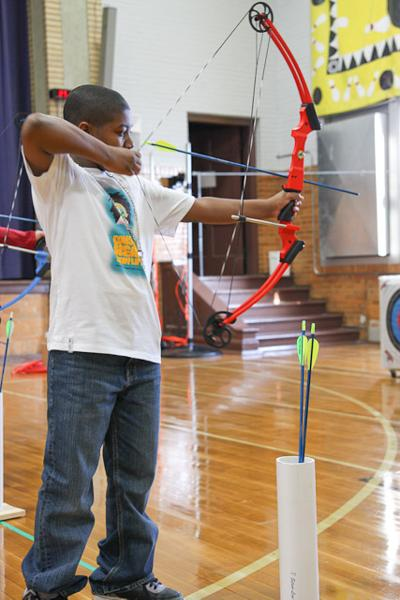person: (22, 82, 305, 600)
